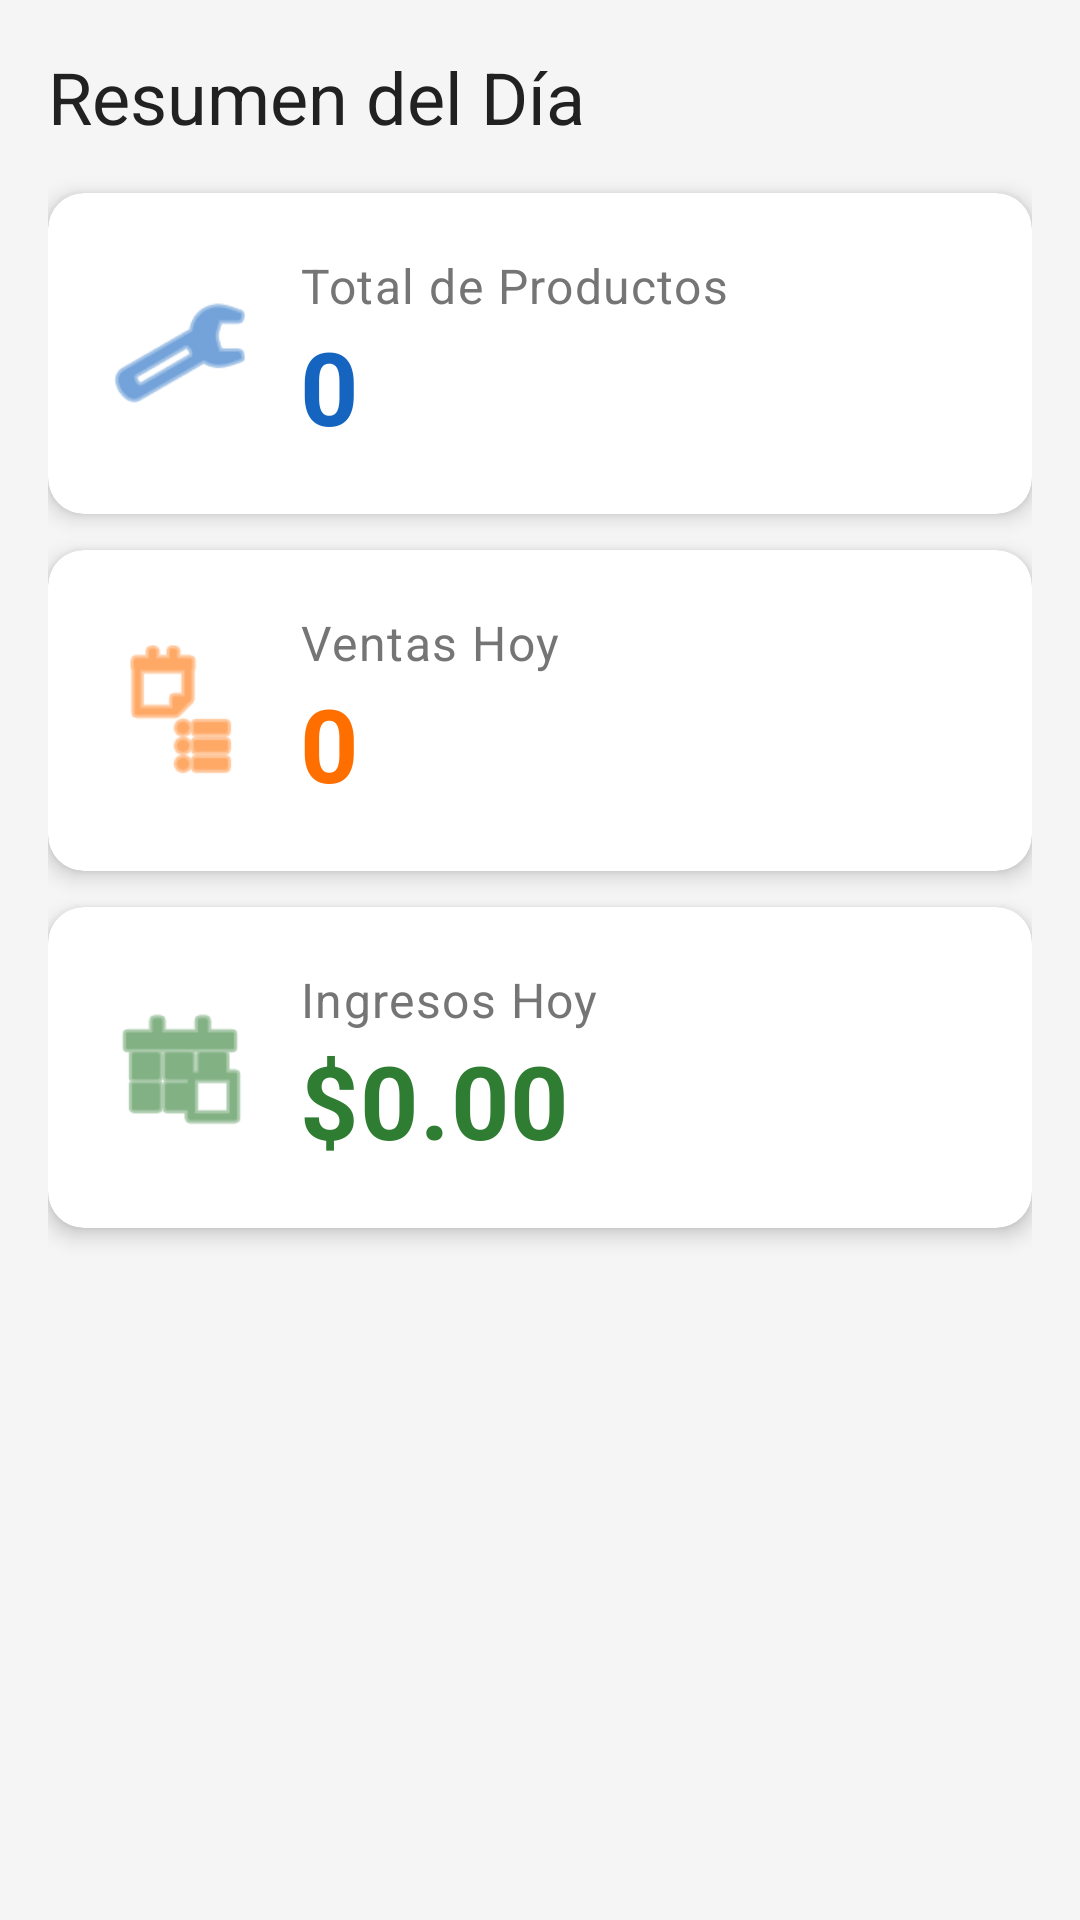

Locate icon controls on the screen. Image size 1080x1920, boxes as (x1, y1, x2, y2).
agenda: (130, 645, 231, 773)
manage: (115, 303, 245, 403)
